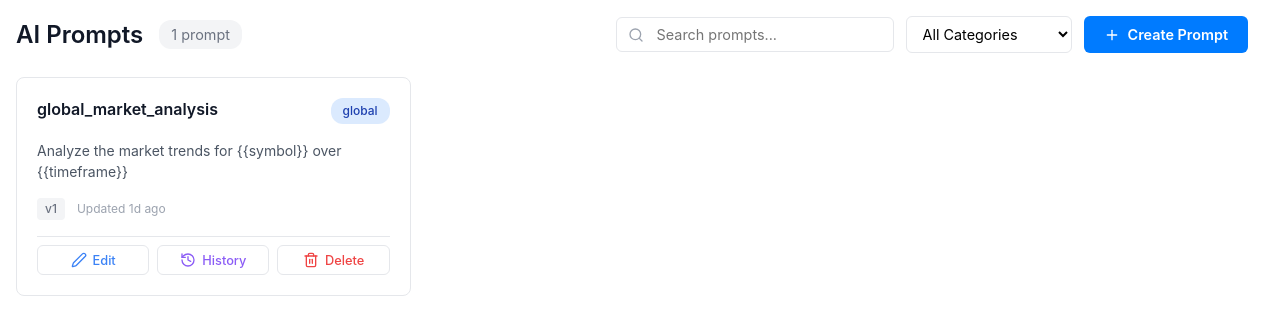
PromptsManager › CRUD Operations › should handle delete errors gracefully
The width and height of the screenshot is (1265, 313).
Check: the heading "global_market_analysis" is shown, box left=37, top=99, right=218, bottom=119
Click the button "Delete".
click(334, 260)  # box left=277, top=245, right=390, bottom=275
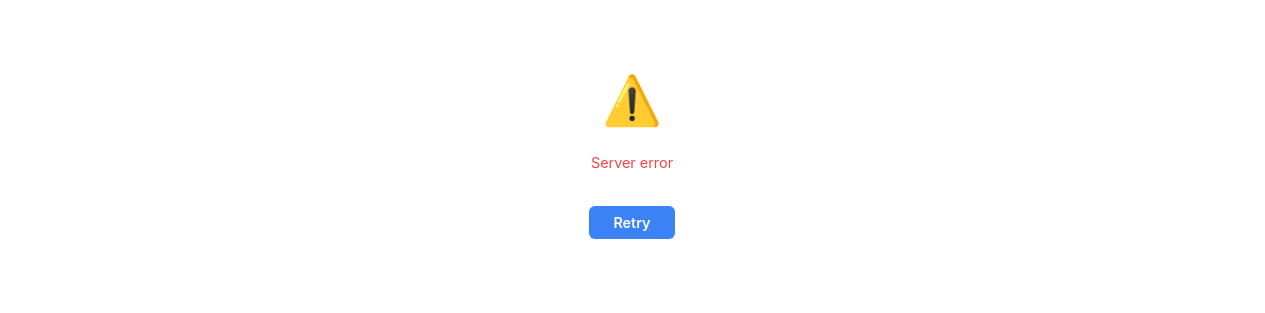
Check: the text "Server error" is shown, box left=591, top=152, right=673, bottom=174
